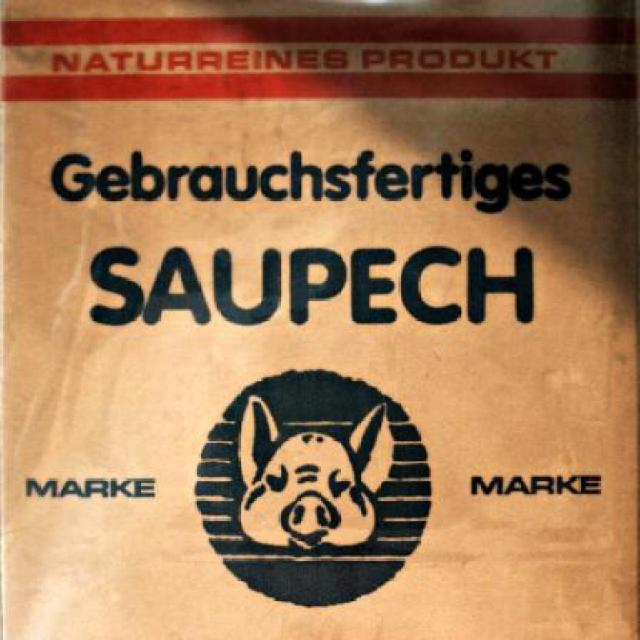pig: (233, 395, 394, 557)
